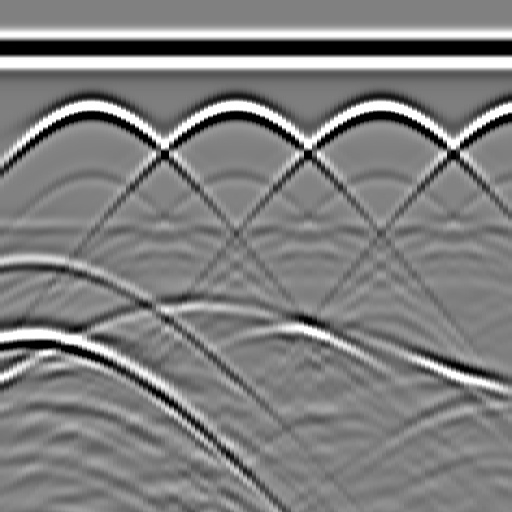grout_surface: (1, 214, 512, 244)
rebar: (69, 89, 109, 129), (214, 89, 254, 129), (358, 89, 398, 129), (502, 89, 512, 129)
rock_surface: (1, 304, 511, 404)
water_void: (1, 238, 61, 278)
